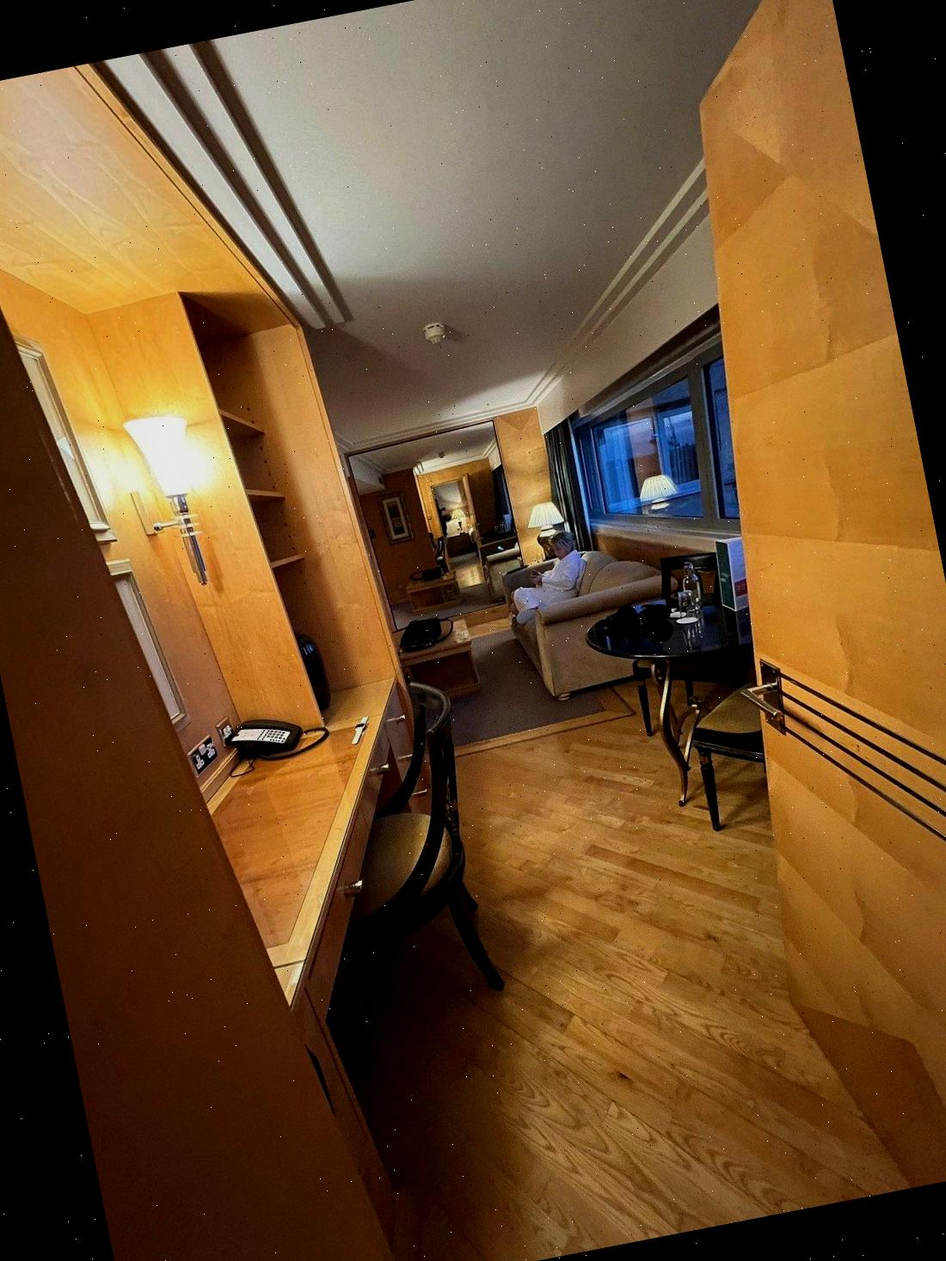chair: (354, 684, 492, 1021), (698, 670, 775, 842)
clean_floor: (364, 621, 901, 1261)
organized table: (213, 576, 413, 1009), (598, 550, 761, 795)
